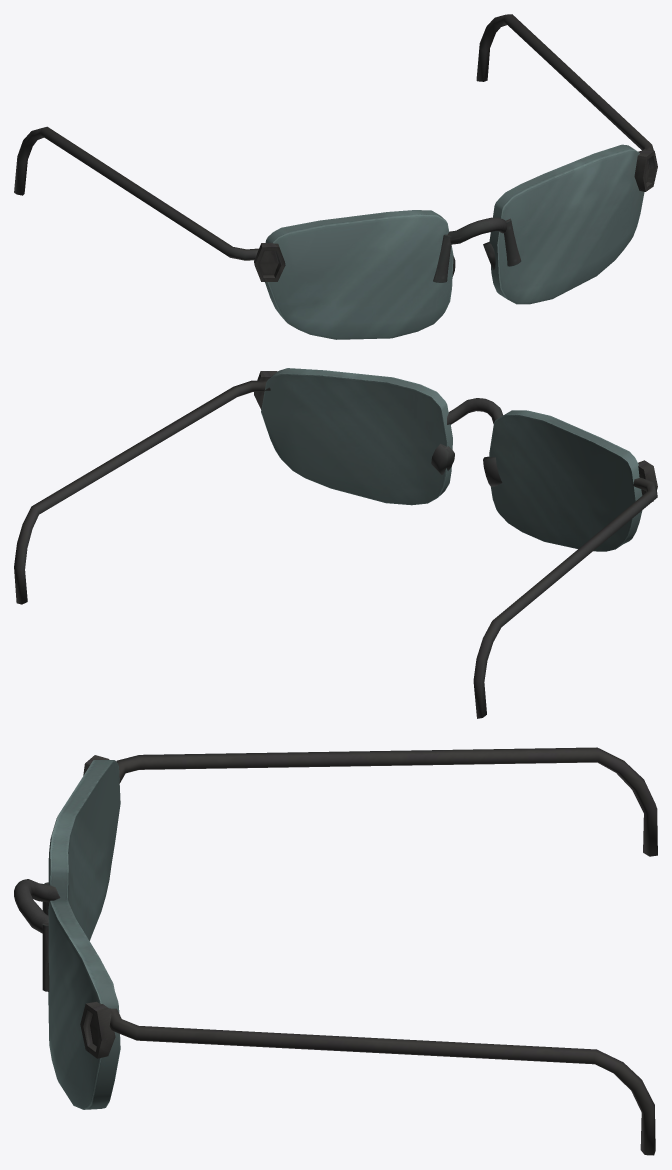
The picture shows the model from 3 angles, top to bottom: view 1: azimuth 30°, elevation 25°; view 2: azimuth 150°, elevation 25°; view 3: azimuth 270°, elevation 25°; orthographic projection. The views are drawn at different scales.
Parts seen in each view (by area): view 1: Wolf3D_Glasses; view 2: Wolf3D_Glasses; view 3: Wolf3D_Glasses.
Boxes of the visible parts, bbox=[...] form: Wolf3D_Glasses: bbox=[14, 14, 657, 339]; Wolf3D_Glasses: bbox=[14, 368, 657, 718]; Wolf3D_Glasses: bbox=[14, 747, 657, 1155].
Bounding box in the file's own units: 0.1657 × 0.0402 × 0.1446.
Materials: 1 (1 with a texture image).
